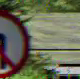Don't turn left: (0, 8, 35, 76)
